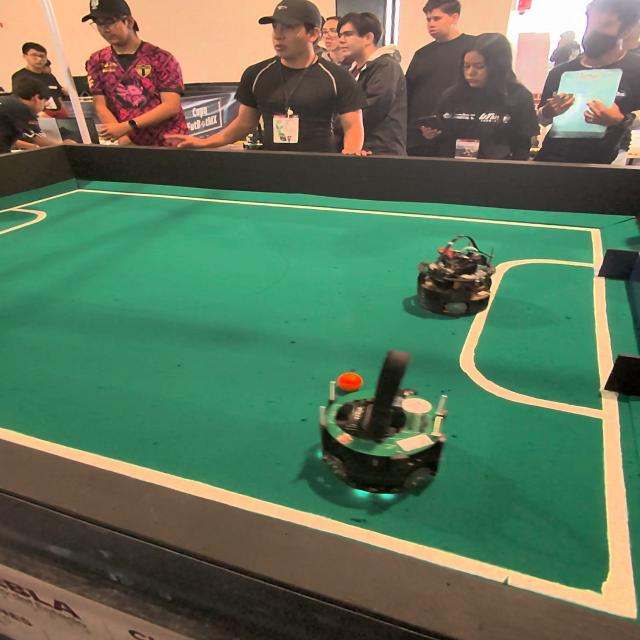Robot: (316, 344, 454, 516), (408, 236, 497, 322)
pelota: (338, 374, 363, 394)
